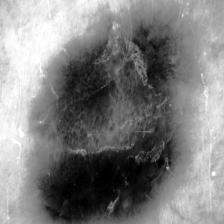Benign Marking or Mole: (27, 6, 204, 224)
